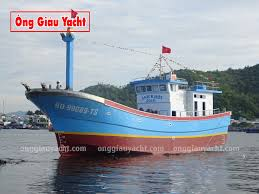tau_dansu: (21, 34, 233, 151)
